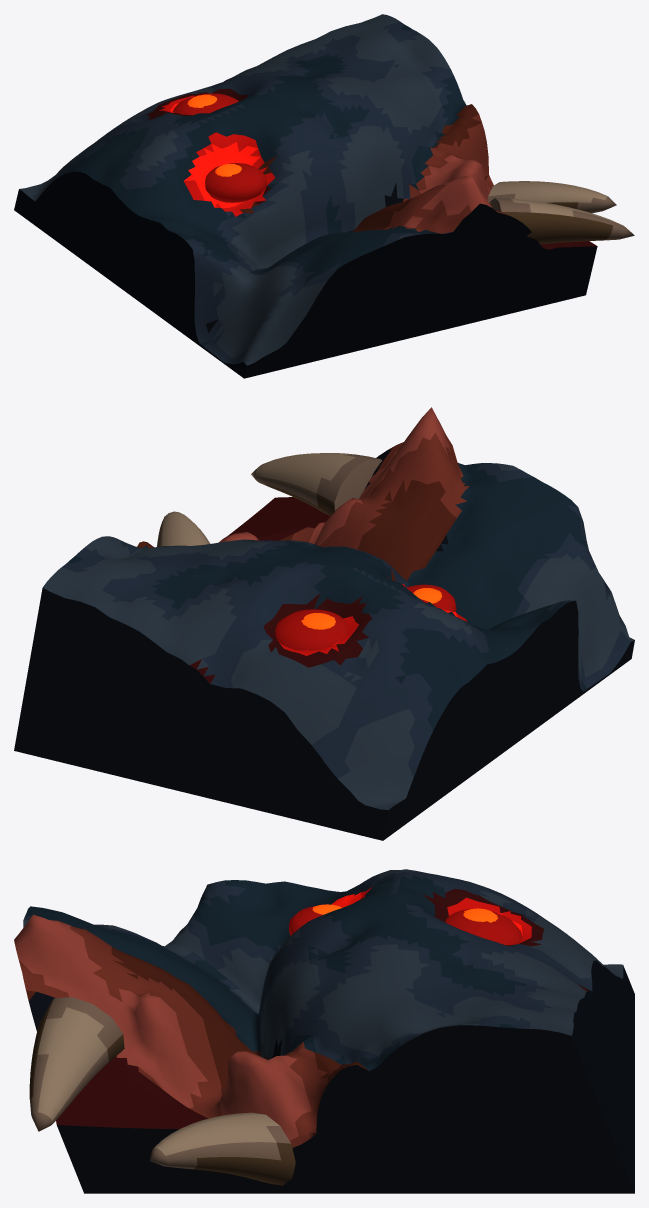
Rendered from gyges_maw_117.glb.
The picture shows the model from 3 angles, top to bottom: view 1: azimuth 30°, elevation 25°; view 2: azimuth 150°, elevation 25°; view 3: azimuth 270°, elevation 25°; orthographic projection. The views are drawn at different scales.
Visible parts, largest first — view 1: gyges_maw_117; view 2: gyges_maw_117; view 3: gyges_maw_117.
Boxes of the visible parts, bbox=[...] form: gyges_maw_117: bbox=[14, 14, 634, 378]; gyges_maw_117: bbox=[14, 407, 634, 840]; gyges_maw_117: bbox=[14, 869, 634, 1193].
Size of the model in its own units: 28.1 by 11.23 by 31.57.
